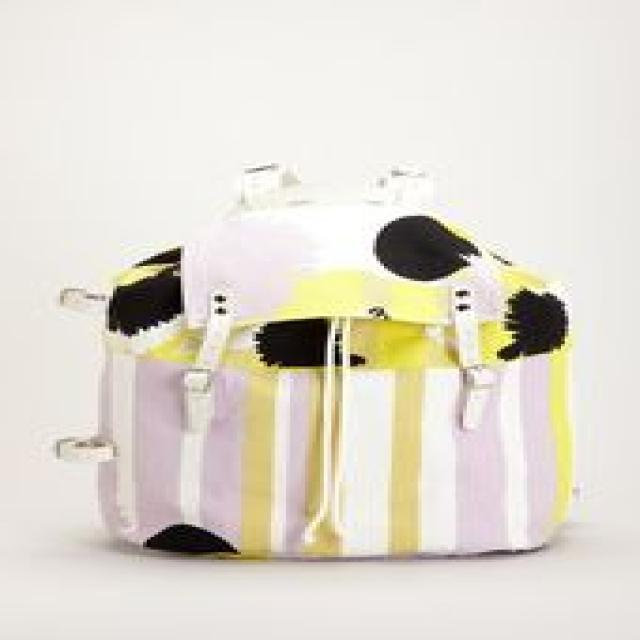backpack: (54, 164, 577, 561)
